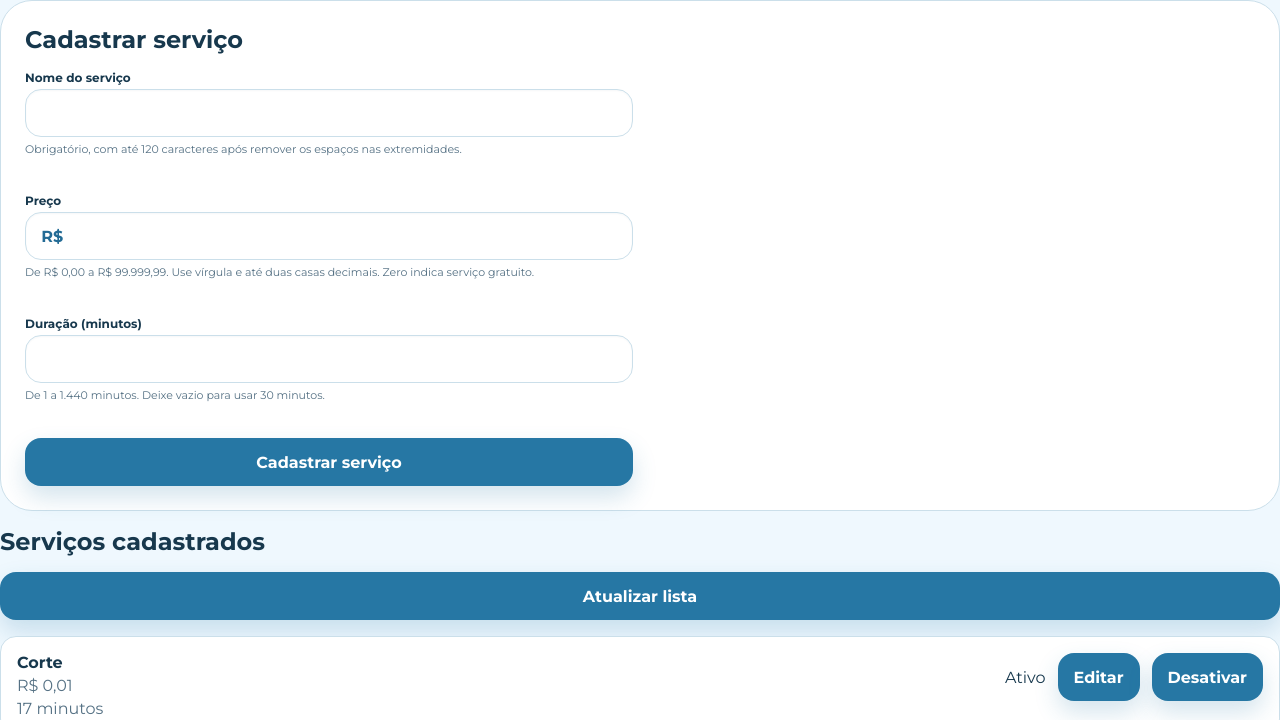
mantém criação confirmada quando a recarga da lista falha
The width and height of the screenshot is (1280, 720).
Type "Corte" into the field labelled "Nome do serviço" at (329, 114), box [25,90,633,138]
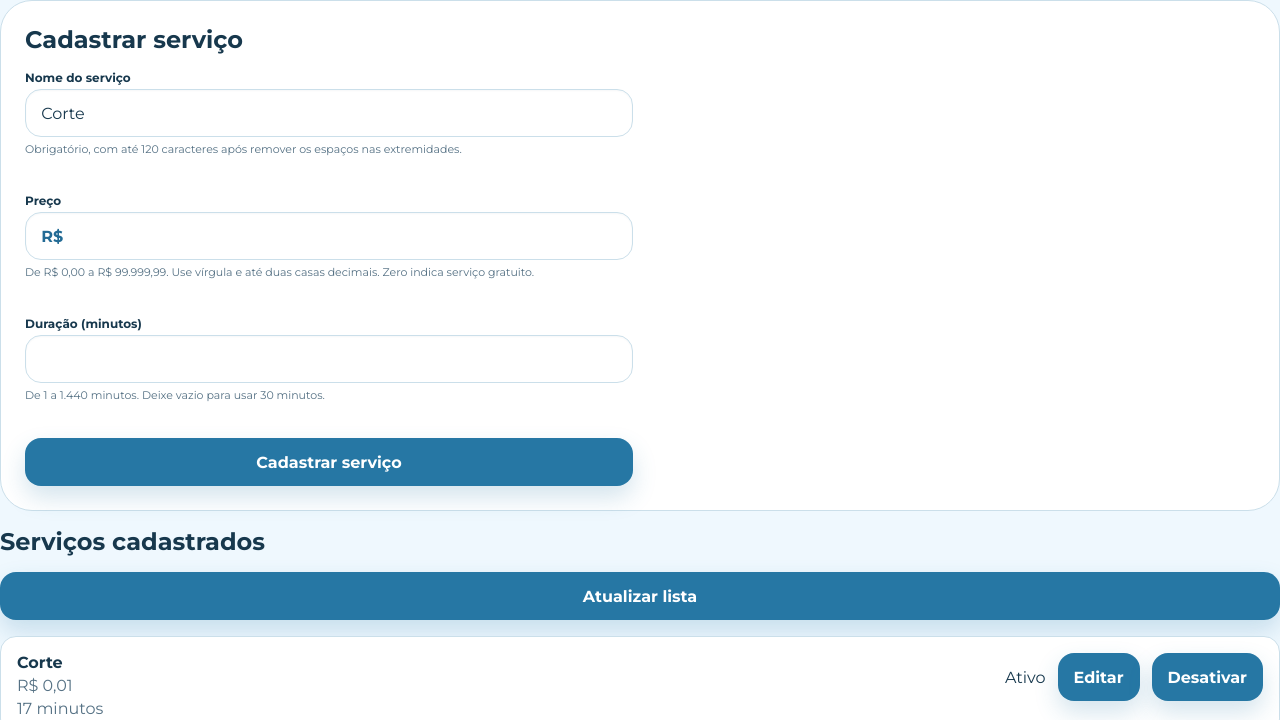
Type "1,00" into the field labelled "Preço" at (348, 236), box [63,213,632,259]
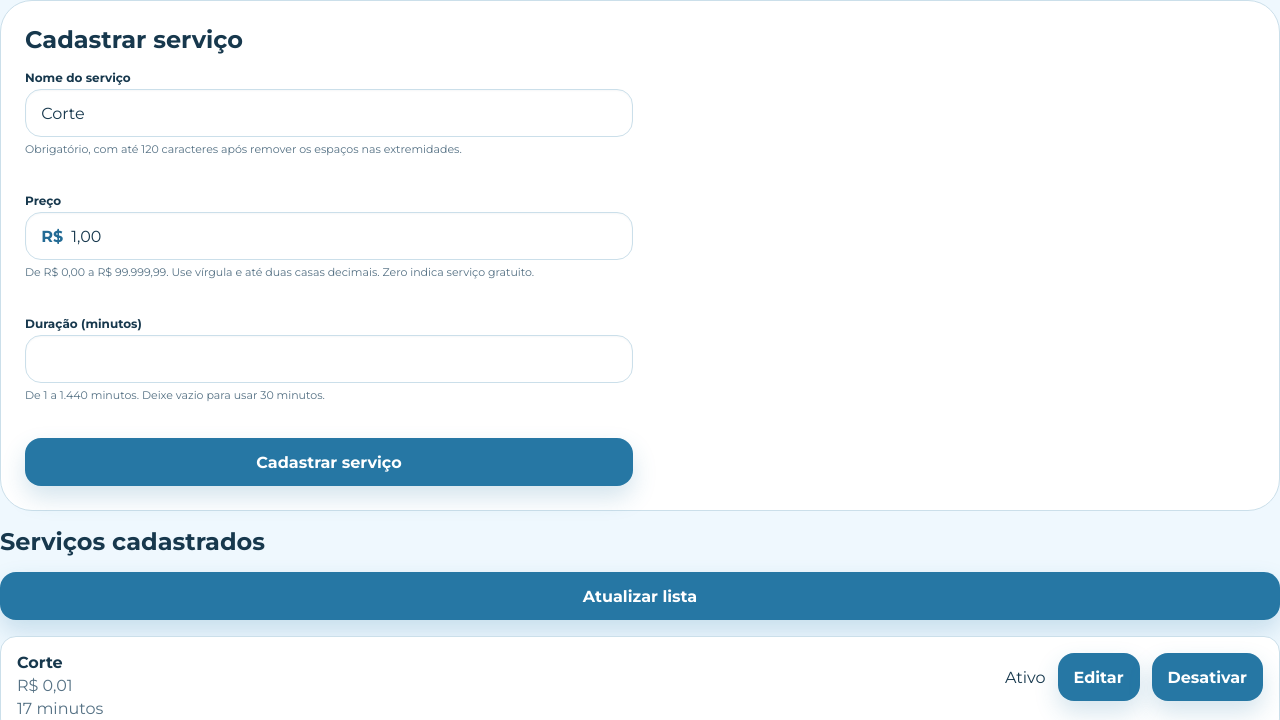
Click the button "Cadastrar serviço" at (329, 462), box [25,438,633,486]
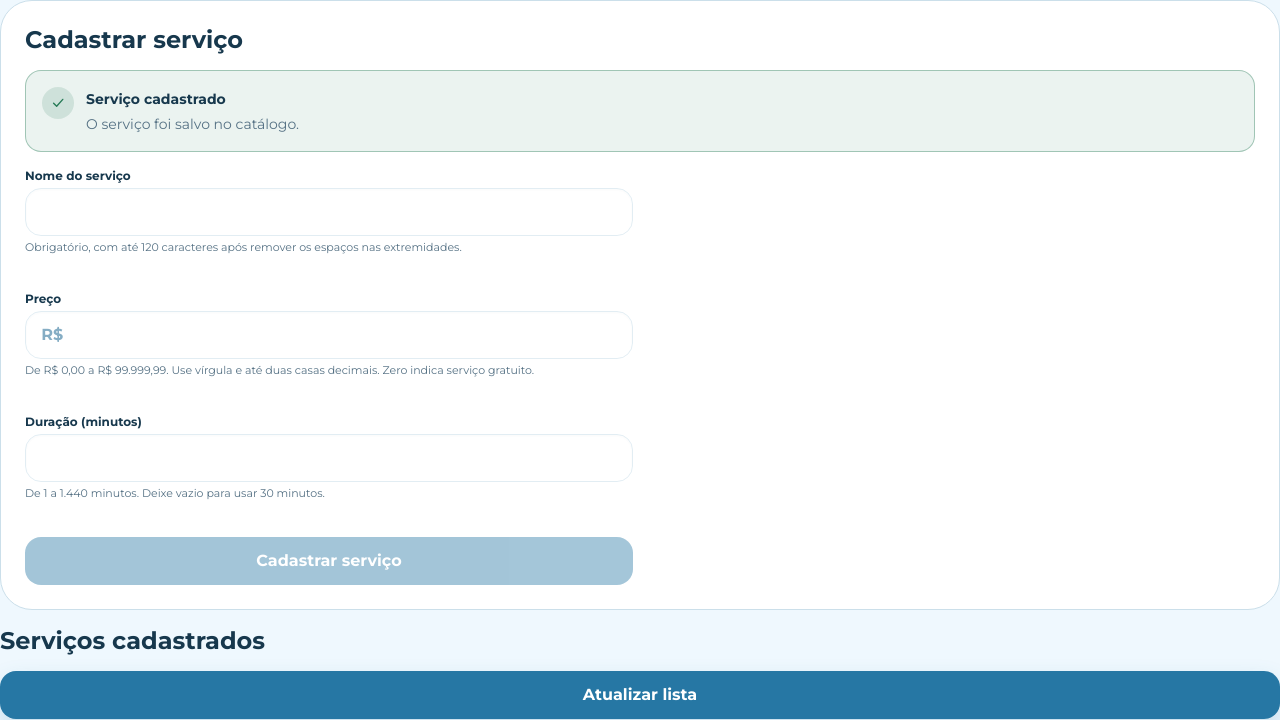
expect the text "Serviço cadastrado" is shown: met, box [86,90,226,108]
